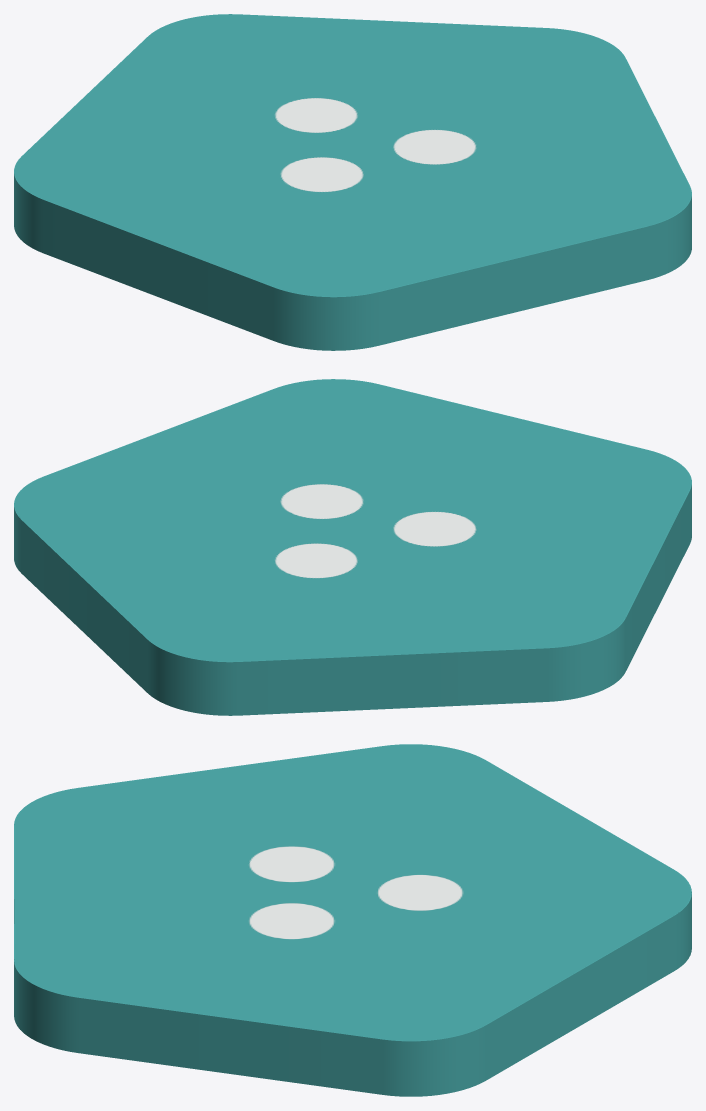
The model's file is back_pentagon.glb.
3 views of the same model, one above another, from view 1: azimuth 30°, elevation 25°; view 2: azimuth 150°, elevation 25°; view 3: azimuth 270°, elevation 25° (orthographic). The views are drawn at different scales.
Parts seen in each view (by area): view 1: back_pentagon; view 2: back_pentagon; view 3: back_pentagon.
Part boxes in pixels (x1,y1,x2,y2): back_pentagon: (14, 14, 691, 350); back_pentagon: (14, 379, 691, 715); back_pentagon: (14, 744, 691, 1096).
Size of the model in its own units: 0.0276 by 0.0024 by 0.0266.
2 materials, 1 textured.
